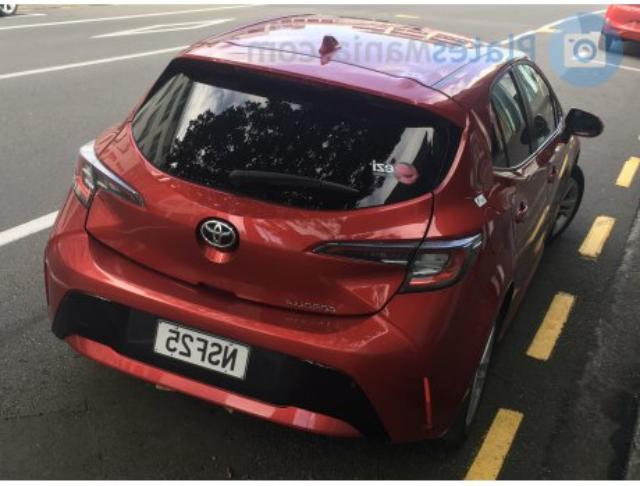Rego: (152, 322, 248, 381)
